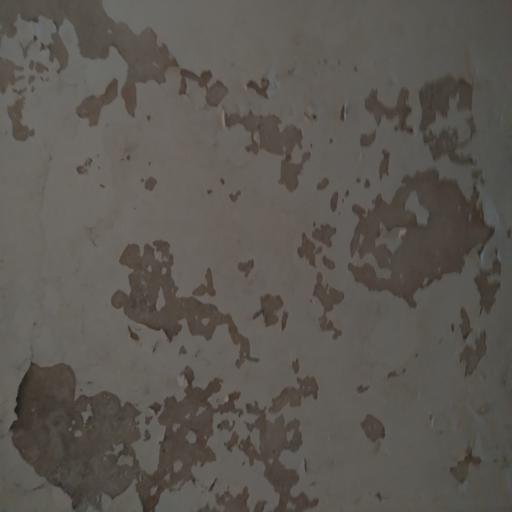peeling: (0, 0, 508, 505)
